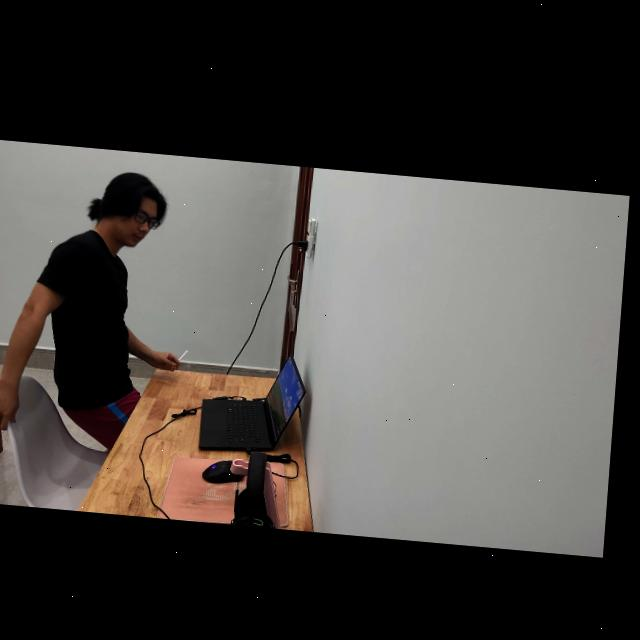cigarette: (178, 345, 195, 365)
